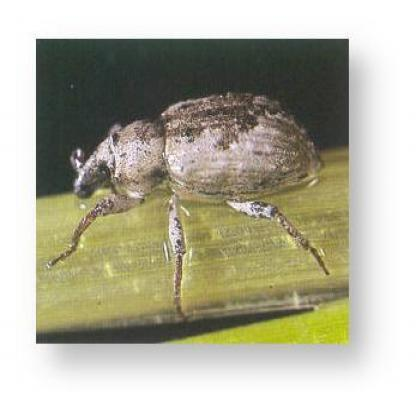rice-bug: (69, 88, 324, 286)
